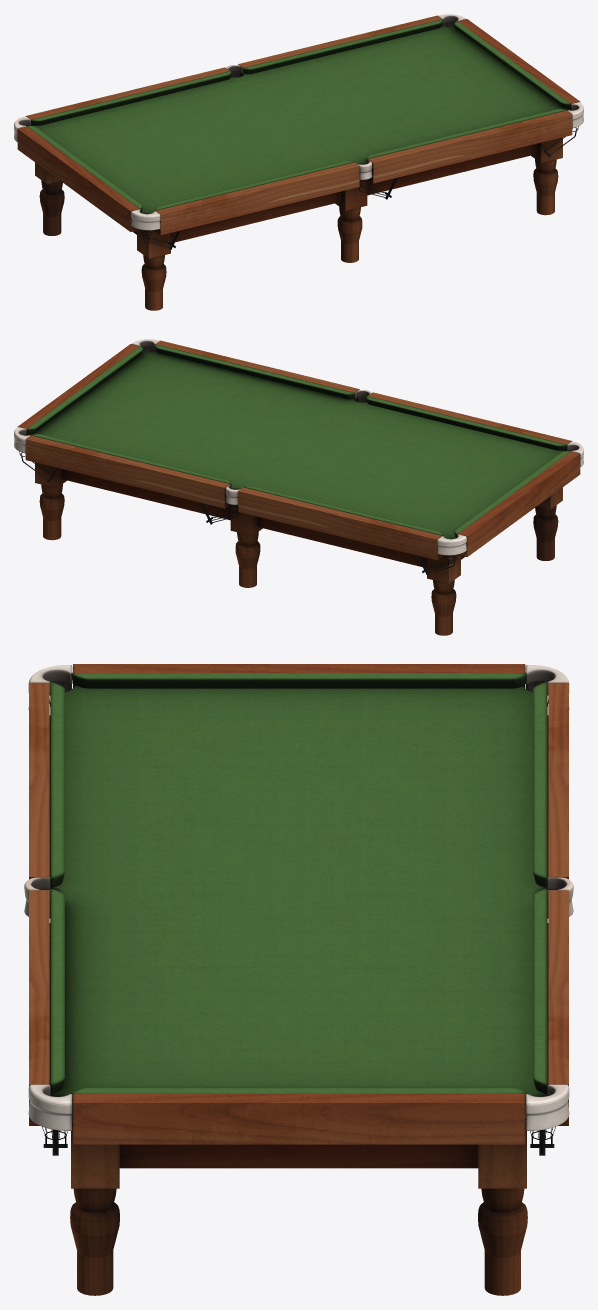
File: table.obj
3 views of the same model, one above another, from view 1: azimuth 30°, elevation 25°; view 2: azimuth 150°, elevation 25°; view 3: azimuth 270°, elevation 25° (orthographic). The views are drawn at different scales.
Visible parts, largest first — view 1: taiqiuzhuo:transform1; view 2: taiqiuzhuo:transform1; view 3: taiqiuzhuo:transform1.
Part boxes in pixels (box(x1,y1,x2,y2)): taiqiuzhuo:transform1: box(14, 14, 583, 310); taiqiuzhuo:transform1: box(14, 339, 583, 635); taiqiuzhuo:transform1: box(24, 664, 573, 1295).
Size of the model in its own units: 1.5 by 0.3414 by 0.7947.
Materials: 1 (1 with a texture image).
